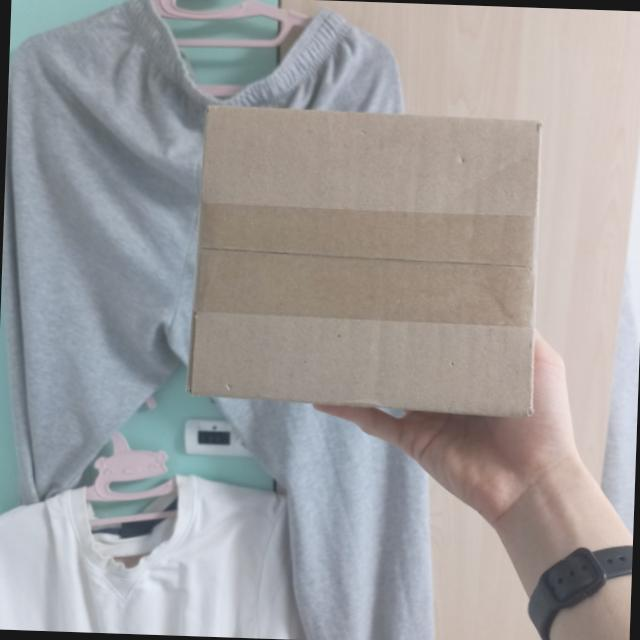box: (183, 97, 549, 419)
